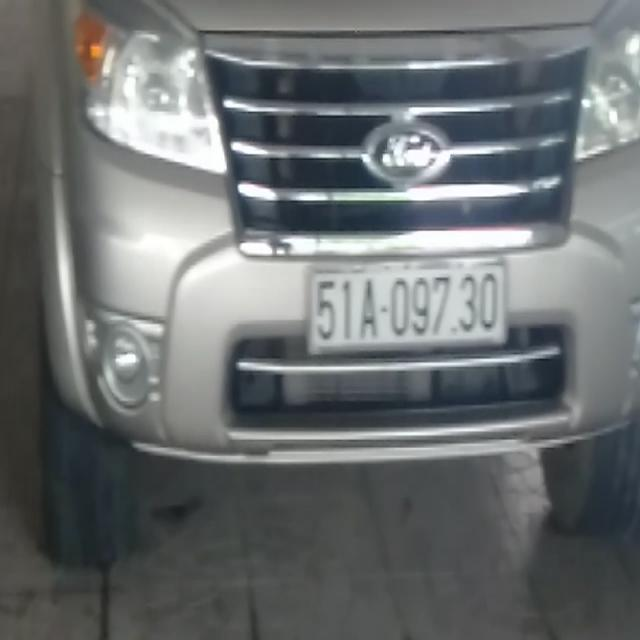bien_trang: (308, 258, 512, 350)
